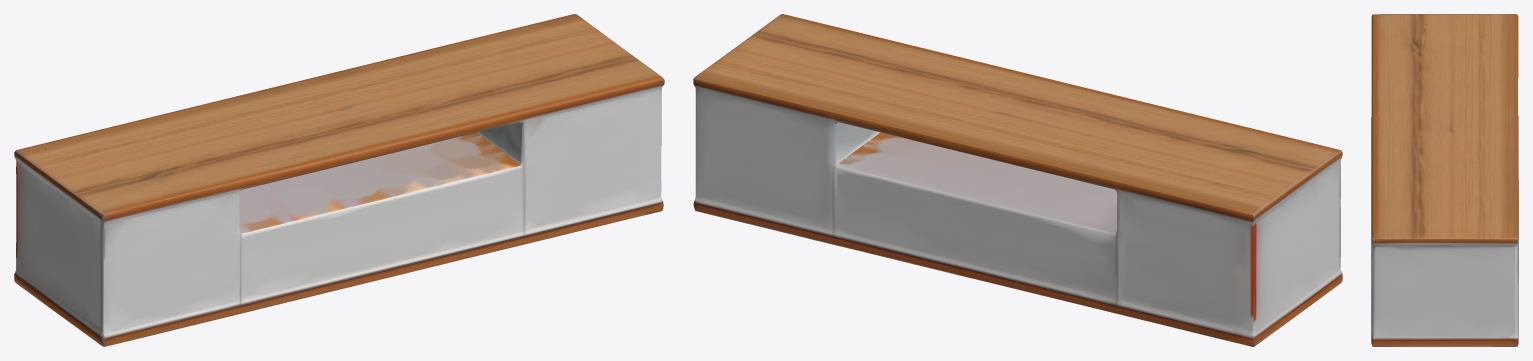
File: MeubleTV1_3D_textured.glb
3 renders of one model, left to right at view 1: azimuth 30°, elevation 25°; view 2: azimuth 150°, elevation 25°; view 3: azimuth 270°, elevation 25°, orthographic. The views are drawn at different scales.
Visible parts, largest first — view 1: temp_mesh.ply; view 2: temp_mesh.ply; view 3: temp_mesh.ply.
Boxes of the visible parts, left/top/right/bottom form: temp_mesh.ply: left=14, top=14, right=664, bottom=346; temp_mesh.ply: left=693, top=14, right=1342, bottom=346; temp_mesh.ply: left=1371, top=14, right=1518, bottom=346.
Bounding box in the file's own units: 1.97 × 0.4486 × 0.5455.
1 material, 1 textured.
